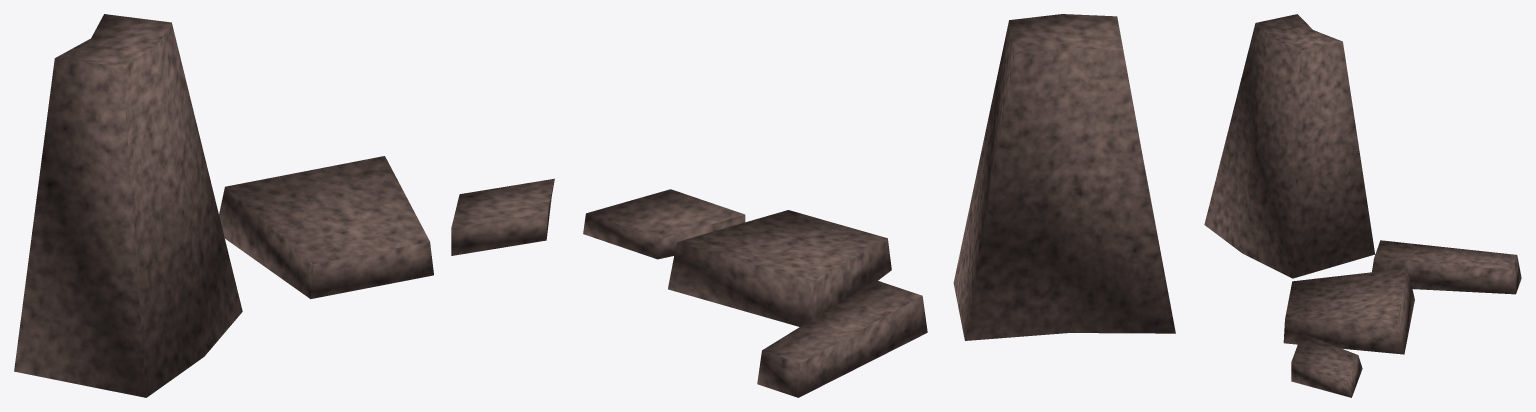
The model's file is tar_henge_06.fbx.
3 renders of one model, left to right at view 1: azimuth 30°, elevation 25°; view 2: azimuth 150°, elevation 25°; view 3: azimuth 270°, elevation 25°, orthographic. The views are drawn at different scales.
Visible parts, largest first — view 1: tar_henge_06; view 2: tar_henge_06; view 3: tar_henge_06.
Part boxes in pixels (box(x1,y1,x2,y2)): tar_henge_06: box(14, 14, 554, 397); tar_henge_06: box(583, 14, 1175, 397); tar_henge_06: box(1204, 14, 1521, 397).
Size of the model in its own units: 288 by 143 by 197.
1 material, 1 textured.
